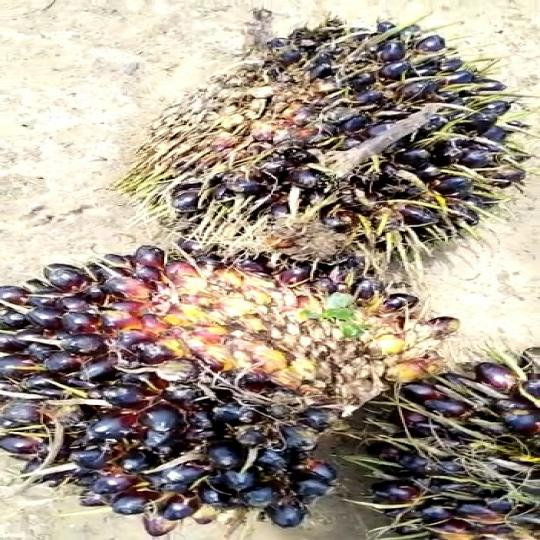mentah: (0, 242, 436, 516), (167, 9, 520, 280)
